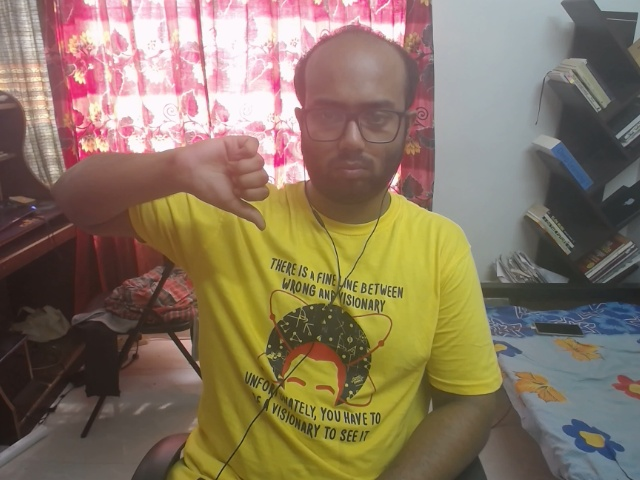nine: (167, 113, 309, 253)
